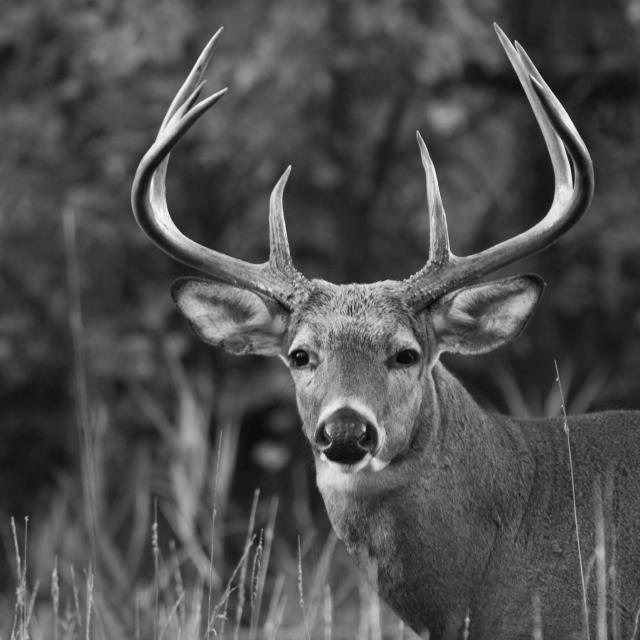Deer: (126, 16, 638, 640)
